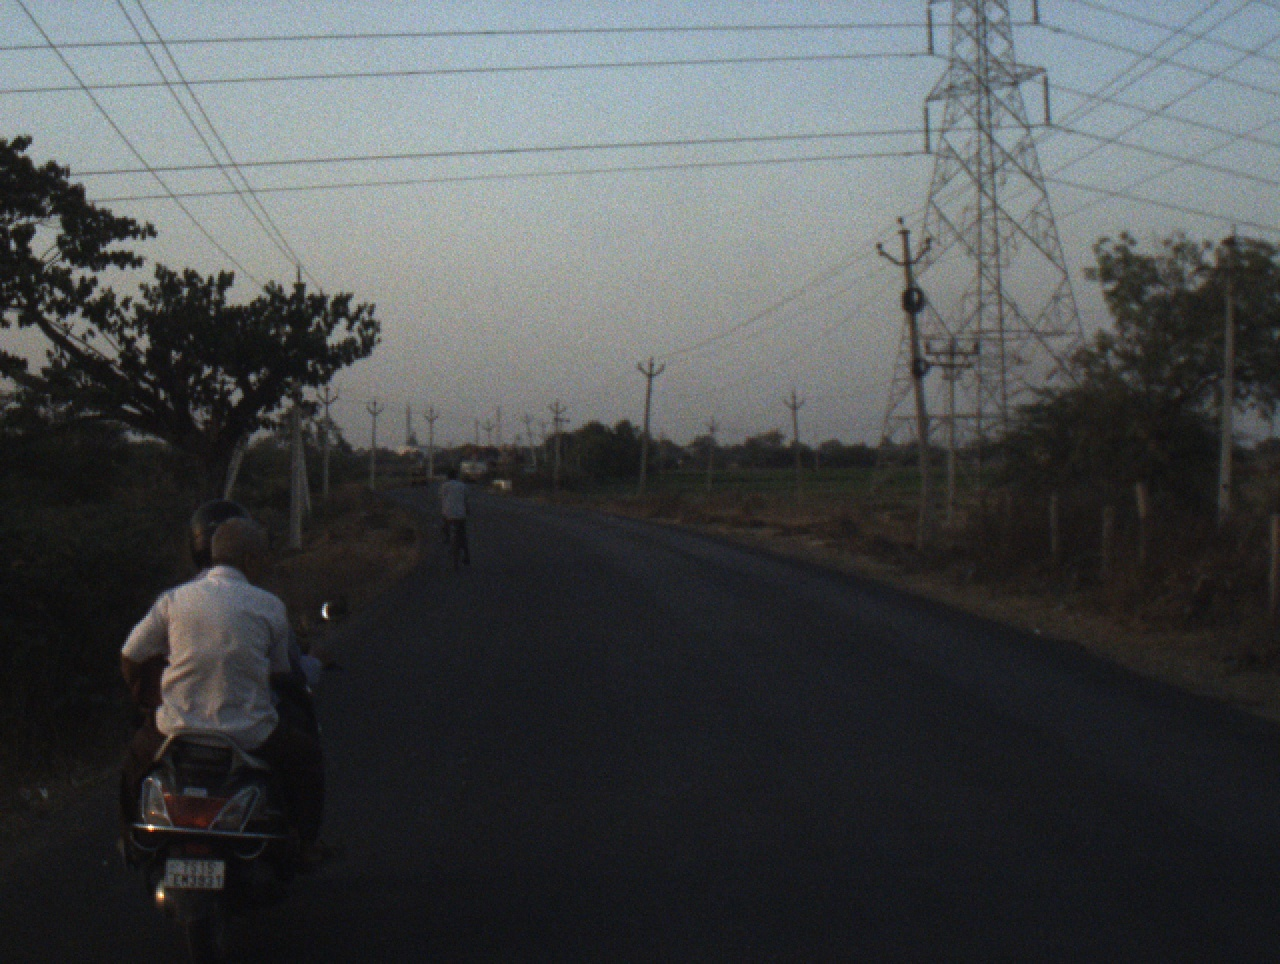autorickshaw: (407, 464, 431, 489)
bicycle: (440, 517, 471, 573)
motorcycle: (119, 600, 344, 942)
rider: (109, 513, 350, 885), (160, 501, 327, 709), (435, 468, 473, 566)
truck: (457, 448, 489, 485)
